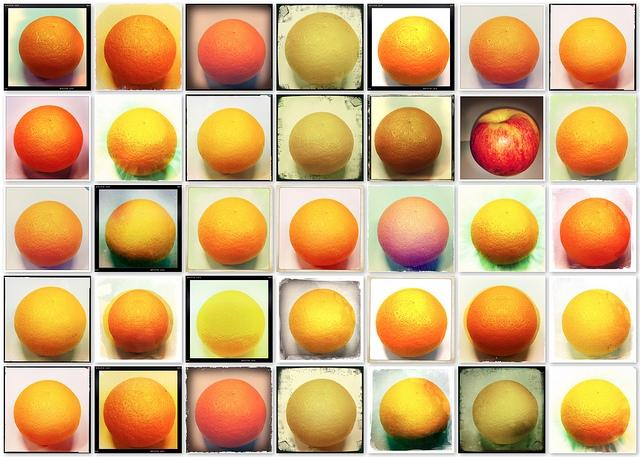apple: (470, 108, 540, 177)
orange: (285, 12, 360, 85), (465, 286, 539, 357), (103, 378, 176, 448), (556, 106, 628, 176), (377, 196, 449, 266), (104, 15, 176, 85), (377, 16, 450, 85), (14, 287, 87, 356), (286, 378, 357, 448), (376, 288, 448, 357), (106, 108, 178, 177), (194, 379, 266, 448), (105, 198, 176, 267), (468, 16, 540, 84), (13, 105, 84, 173), (560, 379, 630, 447), (380, 378, 450, 446), (560, 198, 630, 266), (196, 290, 266, 357), (198, 197, 268, 264), (290, 198, 358, 266), (470, 198, 539, 265), (562, 289, 630, 356), (14, 200, 83, 266), (13, 380, 81, 446), (198, 18, 266, 84), (288, 288, 356, 354), (558, 17, 626, 83), (375, 107, 442, 173), (197, 108, 264, 174), (472, 380, 538, 445), (288, 111, 354, 176), (19, 16, 84, 79), (108, 290, 169, 352)
